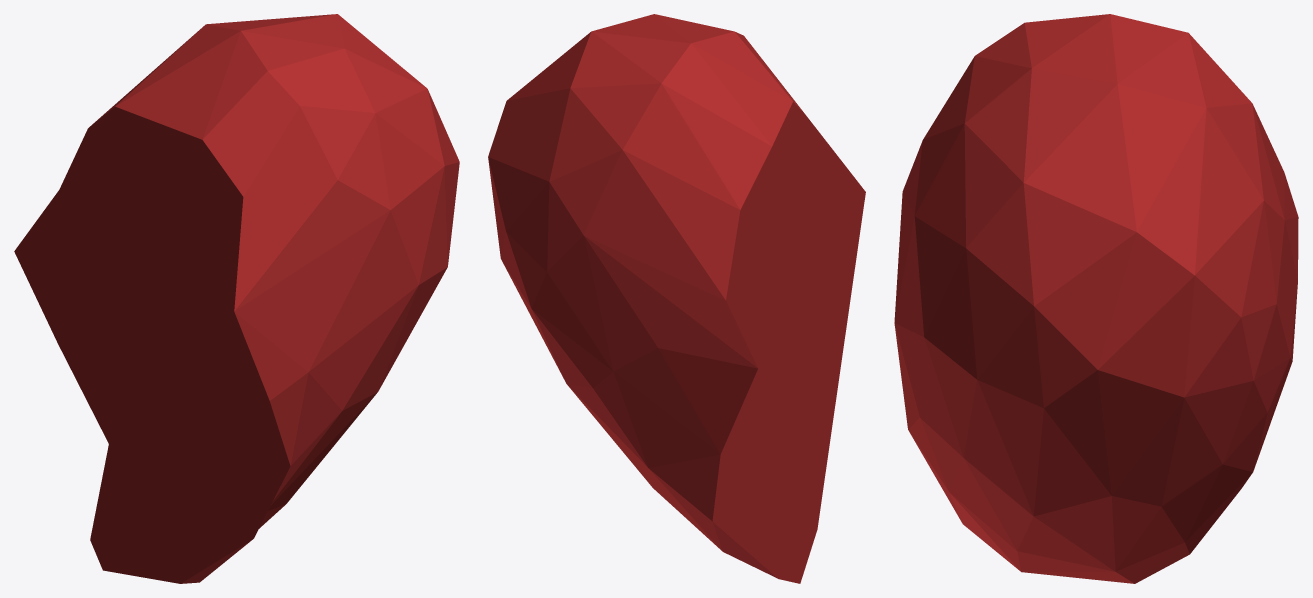
Rendered from heartnew1.fbx.
The picture shows the model from 3 angles, left to right: view 1: azimuth 30°, elevation 25°; view 2: azimuth 150°, elevation 25°; view 3: azimuth 270°, elevation 25°; orthographic projection. The views are drawn at different scales.
Visible parts, largest first — view 1: polySurface1; view 2: polySurface1; view 3: polySurface1.
Part boxes in pixels (x1,y1,x2,y2): polySurface1: (14,14,459,583); polySurface1: (488,14,865,583); polySurface1: (894,14,1298,583).
Size of the model in its own units: 4.61 by 6.7 by 3.96.
